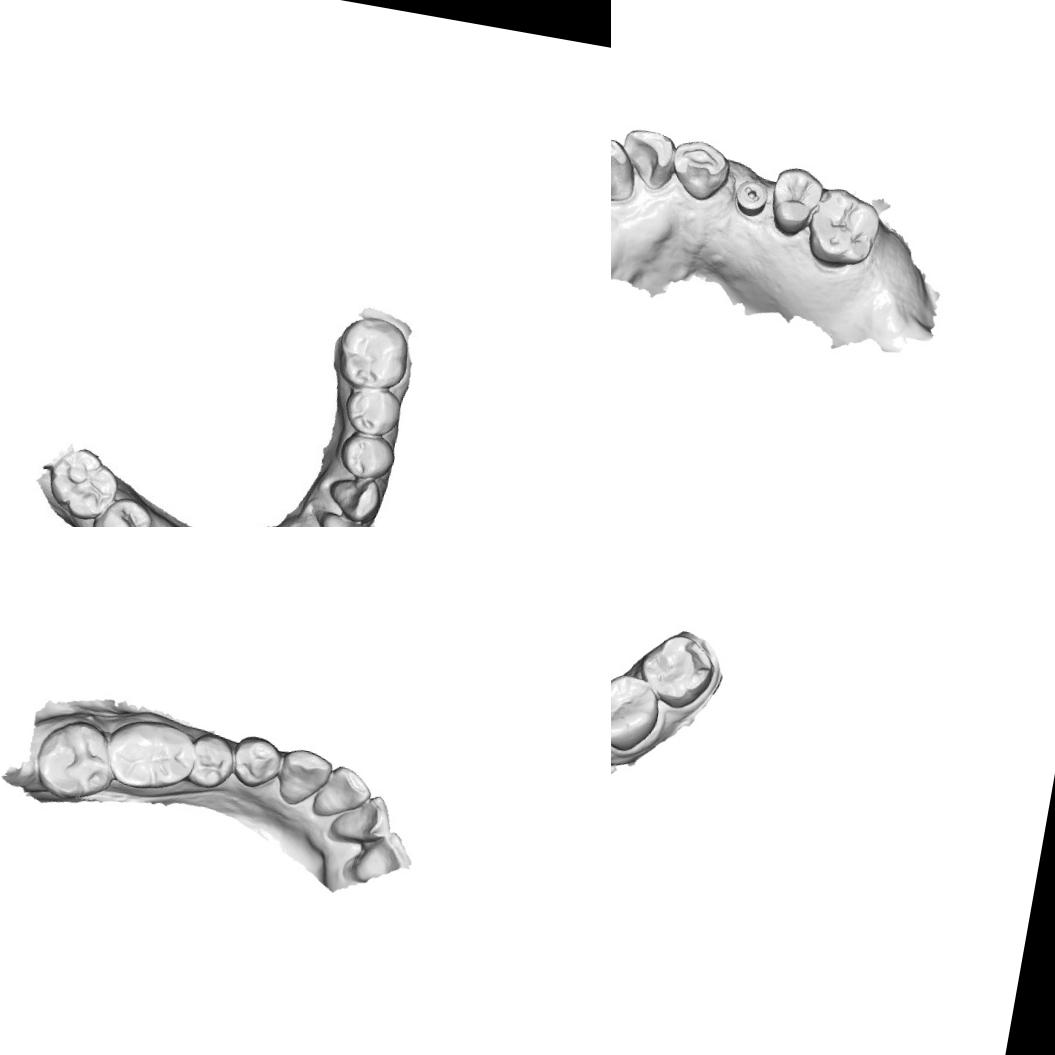canine: (664, 134, 733, 205), (272, 744, 334, 813), (324, 472, 384, 524)
implant_minus: (730, 176, 770, 218)
incisor: (350, 824, 416, 892), (616, 124, 678, 192), (310, 762, 375, 824), (328, 787, 393, 849), (611, 131, 643, 205), (315, 508, 370, 527)
molar: (103, 711, 200, 799), (28, 714, 118, 806), (631, 627, 720, 715), (803, 182, 888, 274), (332, 310, 413, 394), (42, 442, 123, 524), (611, 666, 665, 757)
premolar: (762, 160, 826, 242), (227, 730, 287, 792), (340, 382, 403, 440), (334, 430, 397, 483), (187, 732, 236, 789), (88, 491, 155, 527)
